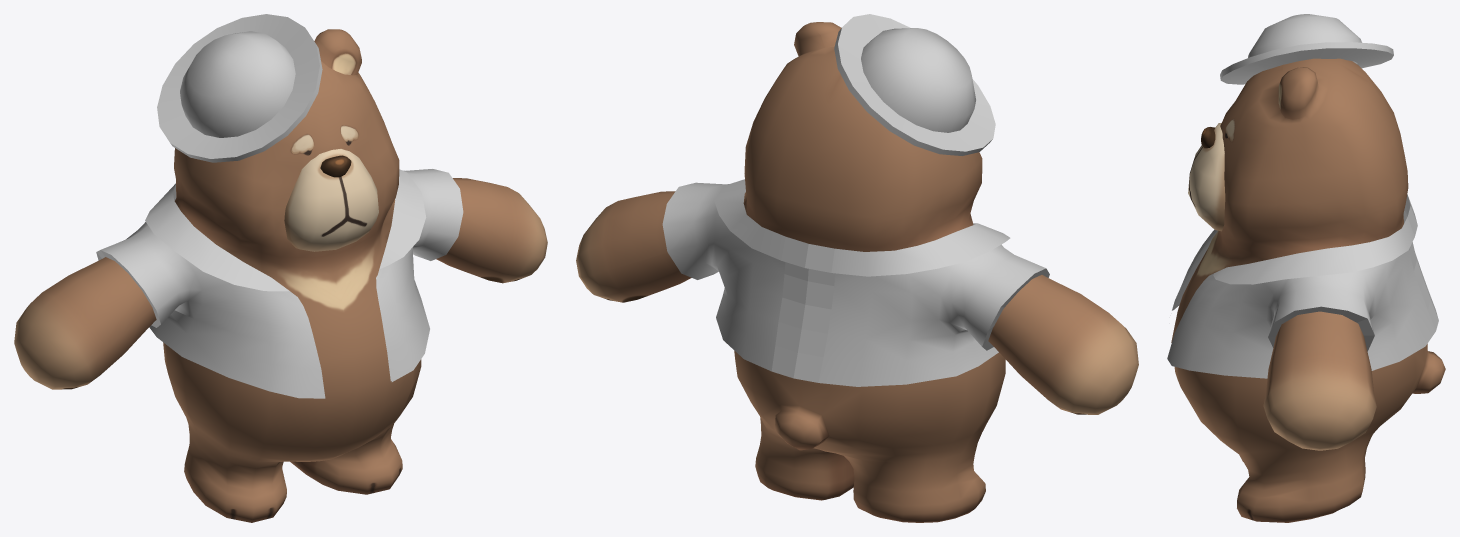
Rendered from bear_Lv2.fbx.
3 renders of one model, left to right at view 1: azimuth 30°, elevation 25°; view 2: azimuth 150°, elevation 25°; view 3: azimuth 270°, elevation 25°, orthographic. The views are drawn at different scales.
Parts seen in each view (by area): view 1: bear, clothes1, hat; view 2: bear, clothes1, hat; view 3: bear, clothes1, hat.
Part boxes in pixels (<box>): bear: <box>14,29,547,522</box>; clothes1: <box>96,169,463,398</box>; hat: <box>157,14,322,162</box>; bear: <box>576,22,1138,522</box>; clothes1: <box>662,179,1049,386</box>; hat: <box>834,14,995,155</box>; bear: <box>1171,58,1445,522</box>; clothes1: <box>1167,194,1438,378</box>; hat: <box>1220,14,1393,84</box>.
Size of the model in its own units: 212 by 181 by 102.
